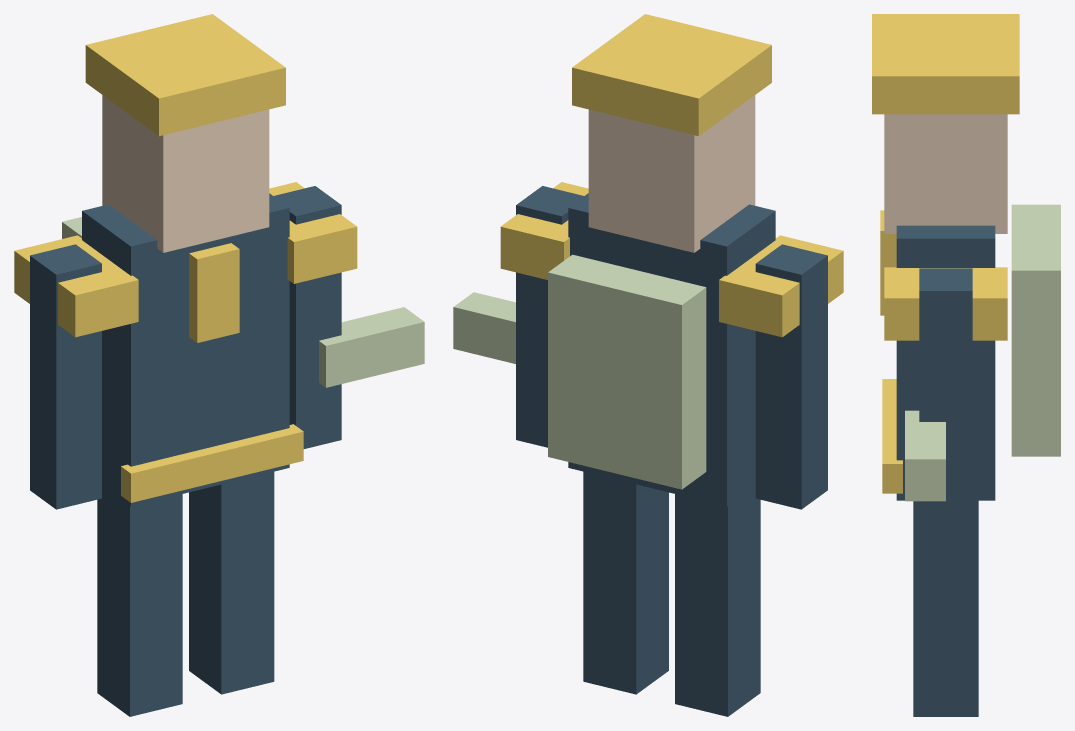
File: 12_dax_stormhush_smith_near_maintenance.glb
3 renders of one model, left to right at view 1: azimuth 30°, elevation 25°; view 2: azimuth 150°, elevation 25°; view 3: azimuth 270°, elevation 25°, orthographic.
Parts seen in each view (by area): view 1: Dax Stormhush, Smith near Maintenance; view 2: Dax Stormhush, Smith near Maintenance; view 3: Dax Stormhush, Smith near Maintenance.
Part boxes in pixels (bbox=[...]): Dax Stormhush, Smith near Maintenance: bbox=[14, 14, 424, 716]; Dax Stormhush, Smith near Maintenance: bbox=[453, 14, 843, 716]; Dax Stormhush, Smith near Maintenance: bbox=[872, 14, 1060, 716].
Bounding box in the file's own units: 0.9949 × 1.66 × 0.4465.
